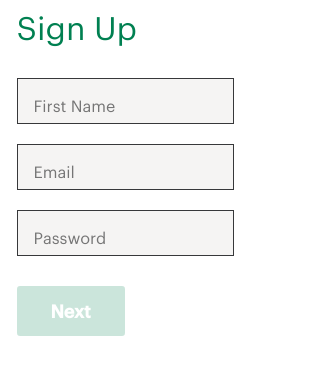
Test: SinUp Page › should render error when password is not correctly filled
In the password field with placeholder "Password": (125, 233) [16,210,234,256], type "sdf123"
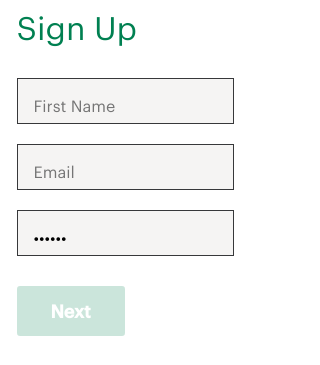
Clear the password field with placeholder "Password": (125, 233) [16,210,234,256]
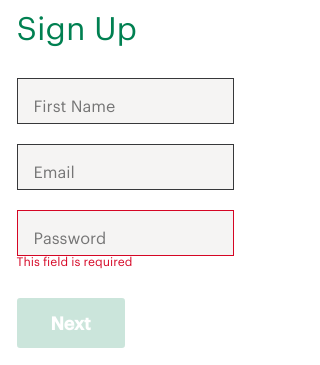
Result: the text "This field is required" is shown at [16,256,132,268]
